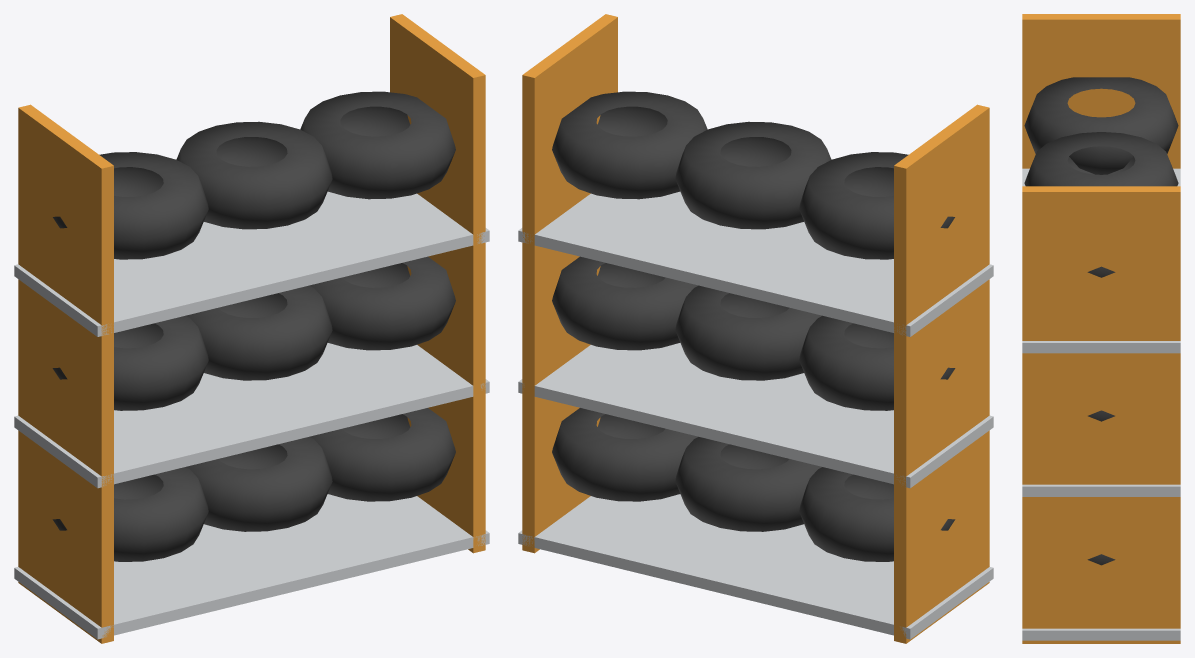
Rendered from tire_rack.glb.
3 renders of one model, left to right at view 1: azimuth 30°, elevation 25°; view 2: azimuth 150°, elevation 25°; view 3: azimuth 270°, elevation 25°, orthographic. The views are drawn at different scales.
Parts seen in each view (by area): view 1: tire_rack; view 2: tire_rack; view 3: tire_rack.
Boxes of the visible parts, <box> form: tire_rack: <box>14,14,489,643</box>; tire_rack: <box>518,14,993,643</box>; tire_rack: <box>1022,14,1180,643</box>.
Size of the model in its own units: 1.9 by 2.2 by 0.7.
